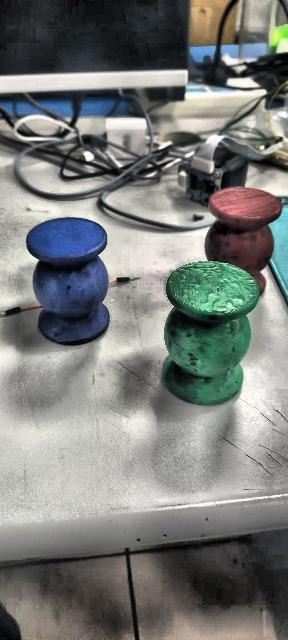blue: (162, 259, 260, 405), (26, 216, 110, 344)
red: (204, 187, 284, 271)
